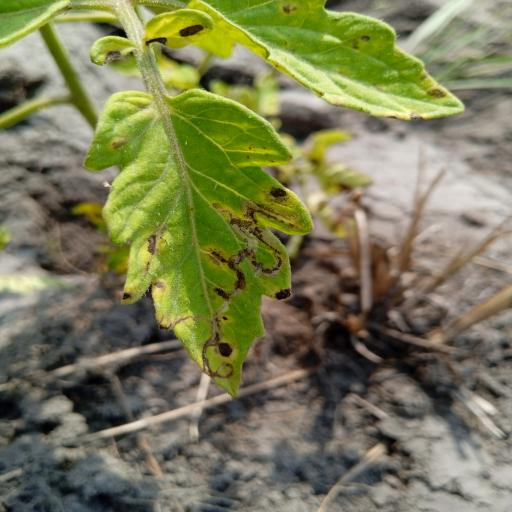Tomato_Brown_Spots: (86, 84, 321, 401), (178, 0, 470, 120)
